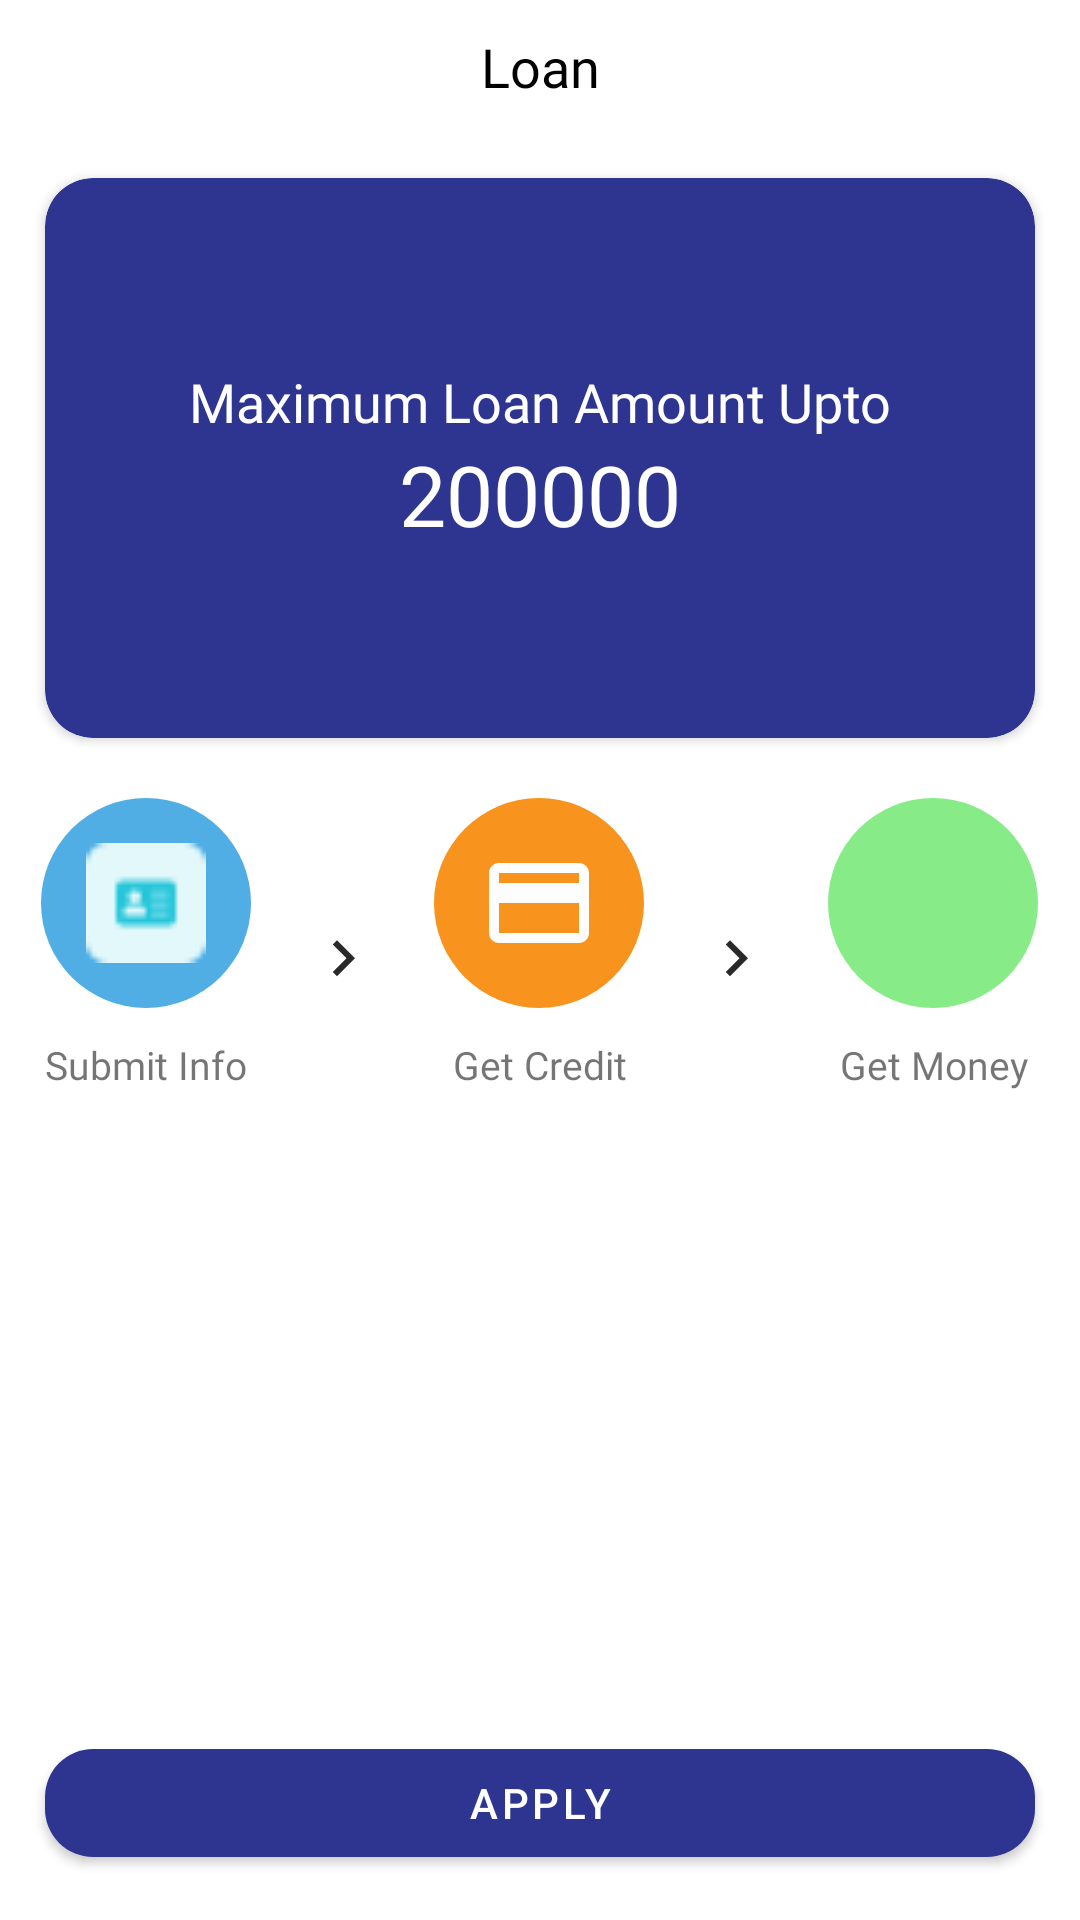

Screen size 1080x1920. Icon name, then its center in pixels as (x,y):
arrow: (344,958), (737,958)
card: (539,903)
idcard: (146,903)
